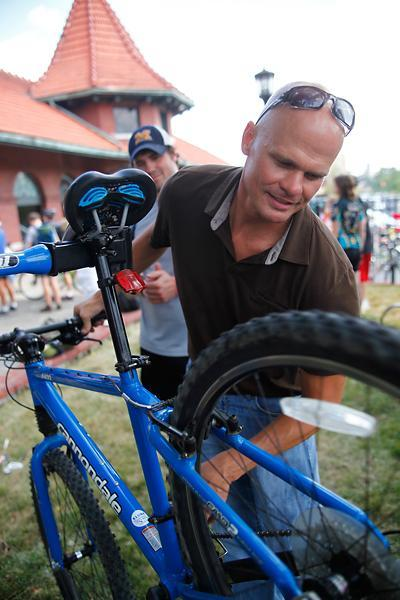person: (77, 82, 365, 600)
